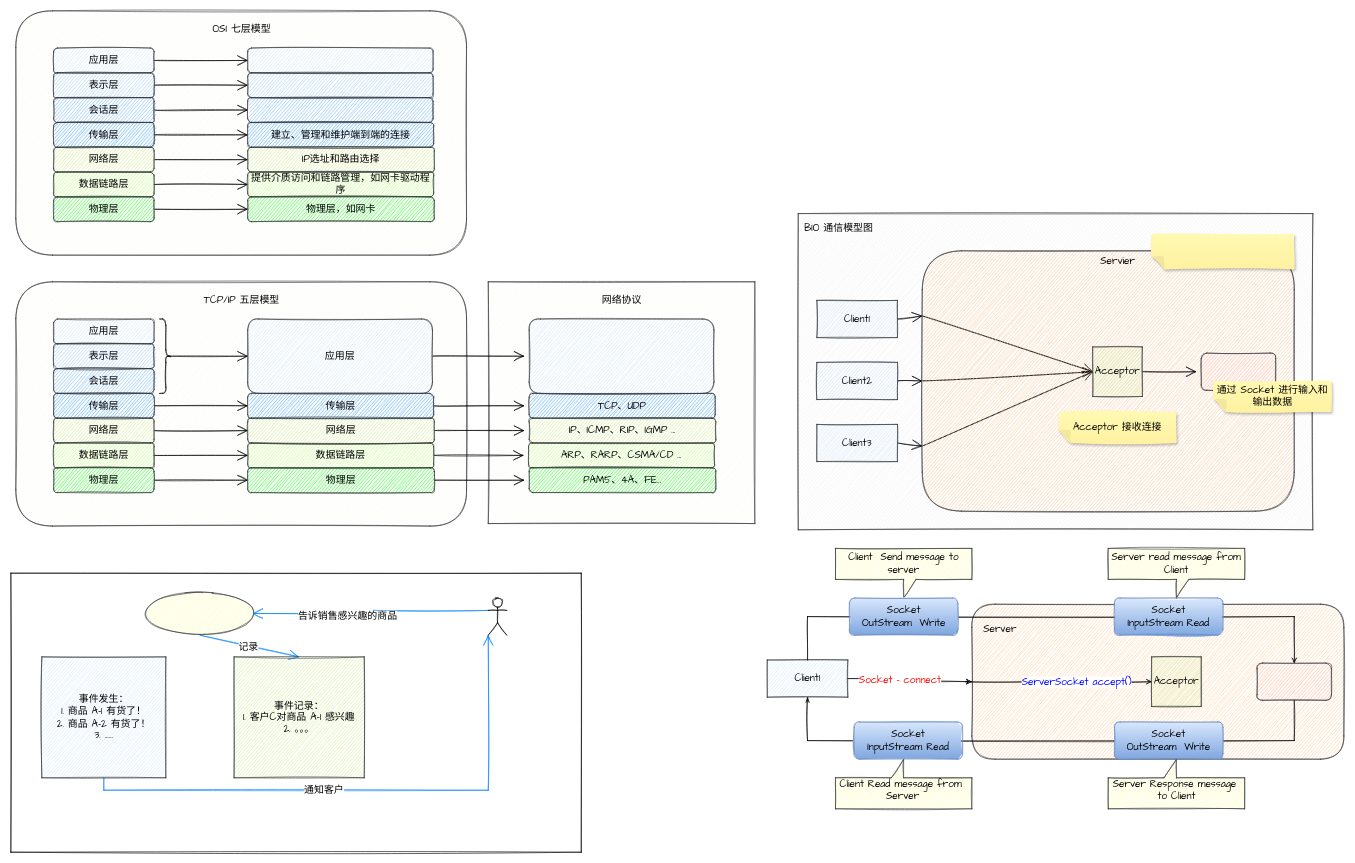
The diagram is 1355 pixels wide and 863 high, and some of its shapes have lost their labels. Here are the shapes that lost their labels. From the top down, the centre of each, then its label:
At point 340,60: "为应用程序提供服务".
At point 340,85: "数据格式化、加密".
At point 340,109: "建立、管理和维护会话".
At point 1223,252: "ServerSocket 绑定端口和IP".
At point 621,355: "HTTP/ HTTPS/Telnet/FTP/TFEP/DNS/SMTP ...".
At point 1238,371: "Thread".
At point 200,613: "销售B (反应器)".
At point 497,616: "客户 C".
At point 1293,681: "业务逻辑".
